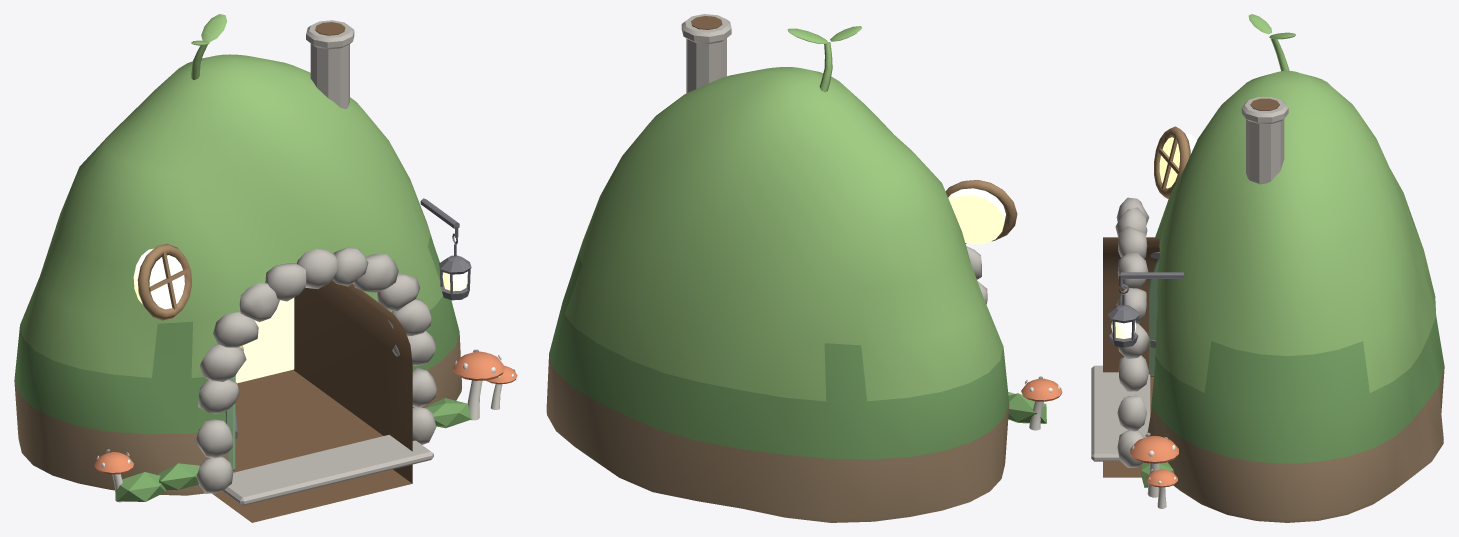
File: burrow.glb
3 views of the same model, side by side, from view 1: azimuth 30°, elevation 25°; view 2: azimuth 150°, elevation 25°; view 3: azimuth 270°, elevation 25° (orthographic). The views are drawn at different scales.
Visible parts, largest first — view 1: burrow; view 2: burrow; view 3: burrow.
Boxes of the visible parts, box(x1,y1,x2,y2) form: burrow: box(14, 14, 517, 522); burrow: box(546, 14, 1062, 522); burrow: box(1091, 14, 1444, 522).
Bounding box in the file's own units: 3.13 × 2.99 × 2.4.
